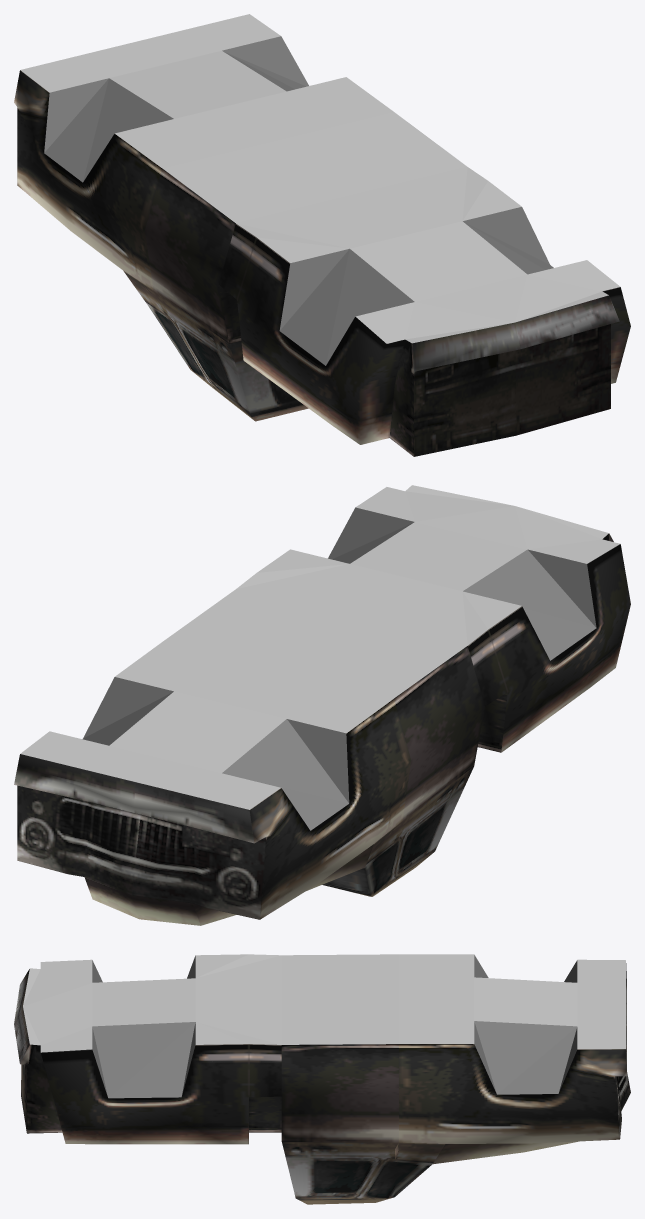
Rendered from RIO_model9_clean.obj.
The picture shows the model from 3 angles, top to bottom: view 1: azimuth 30°, elevation 25°; view 2: azimuth 150°, elevation 25°; view 3: azimuth 270°, elevation 25°; orthographic projection. The views are drawn at different scales.
Parts seen in each view (by area): view 1: RIO_model9_clean; view 2: RIO_model9_clean; view 3: RIO_model9_clean.
Part boxes in pixels (x1,y1,x2,y2): RIO_model9_clean: (14,14,630,456); RIO_model9_clean: (14,485,630,925); RIO_model9_clean: (14,954,630,1204).
Size of the model in its own units: 256 by 194 by 622.
